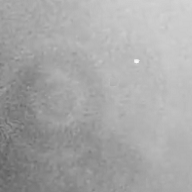Target: (133, 58, 141, 64)
